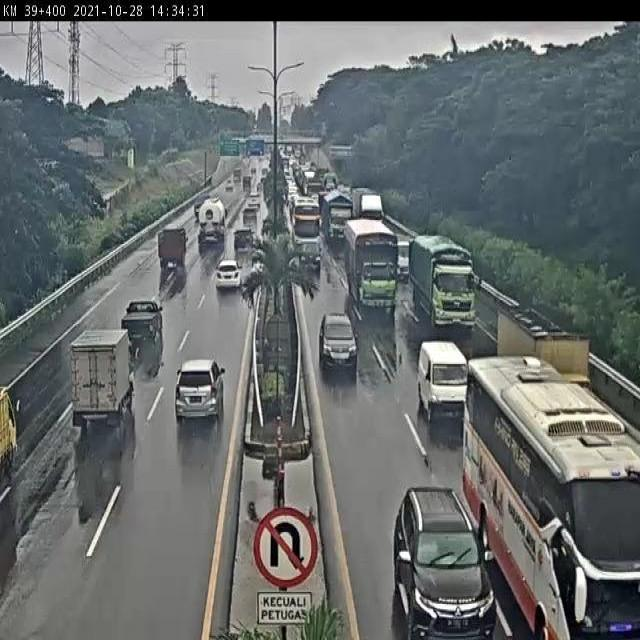big bus: (471, 356, 640, 640), (289, 196, 325, 269)
big truck: (409, 237, 478, 336), (345, 218, 403, 314)
car: (395, 485, 497, 639), (418, 339, 474, 425), (173, 357, 228, 427), (319, 309, 360, 376), (119, 298, 167, 350), (213, 259, 245, 293), (233, 227, 255, 256)
small truck: (494, 303, 592, 409), (70, 328, 134, 421), (154, 225, 190, 271), (194, 198, 226, 246)
